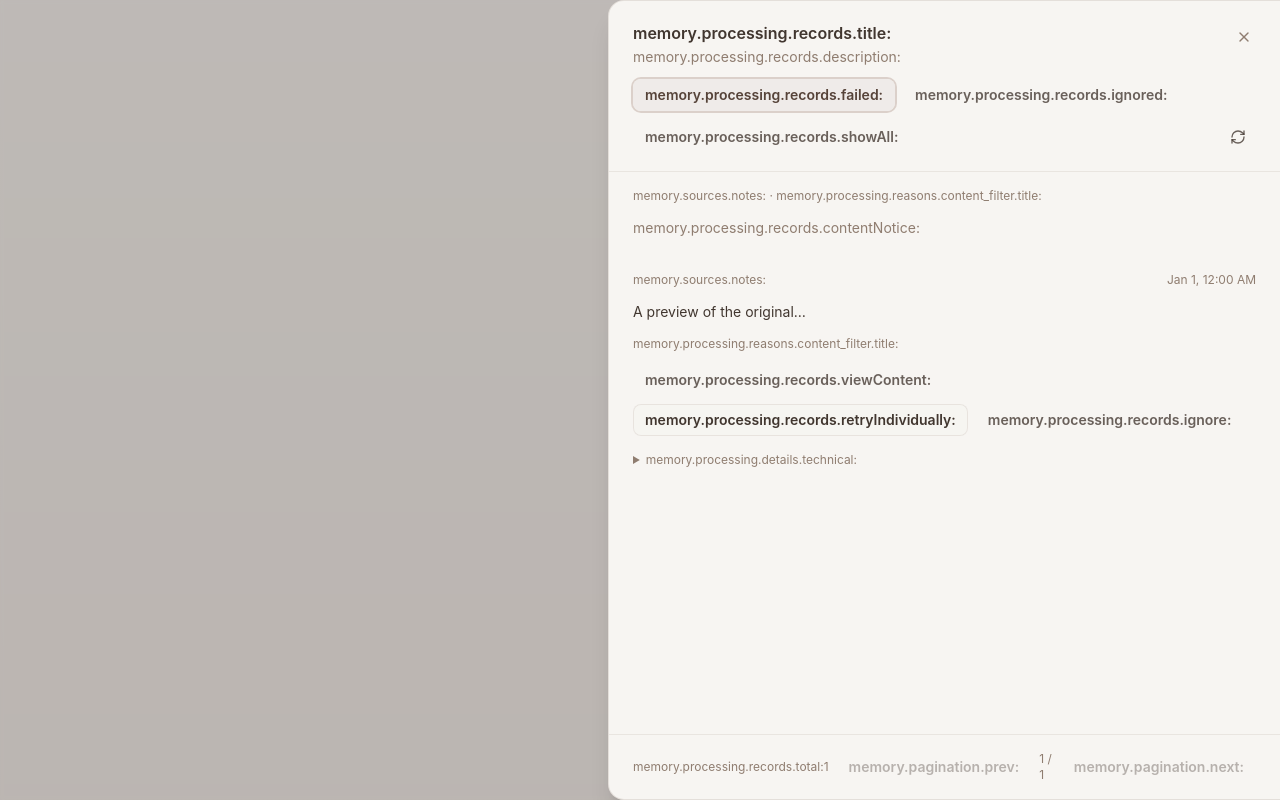
Scenario: MemoryFailureRecords › shows affected originals and offers explicit individual recovery without auto-retrying
The image size is (1280, 800).
Check: the text "A preview of the original…" is shown, box [633,303,806,320]
Check: the text "memory.processing.records.contentNotice:" is shown, box [633,219,920,236]
Click the button "memory.processing.records.viewContent:" at (788, 380), box [633,364,943,396]
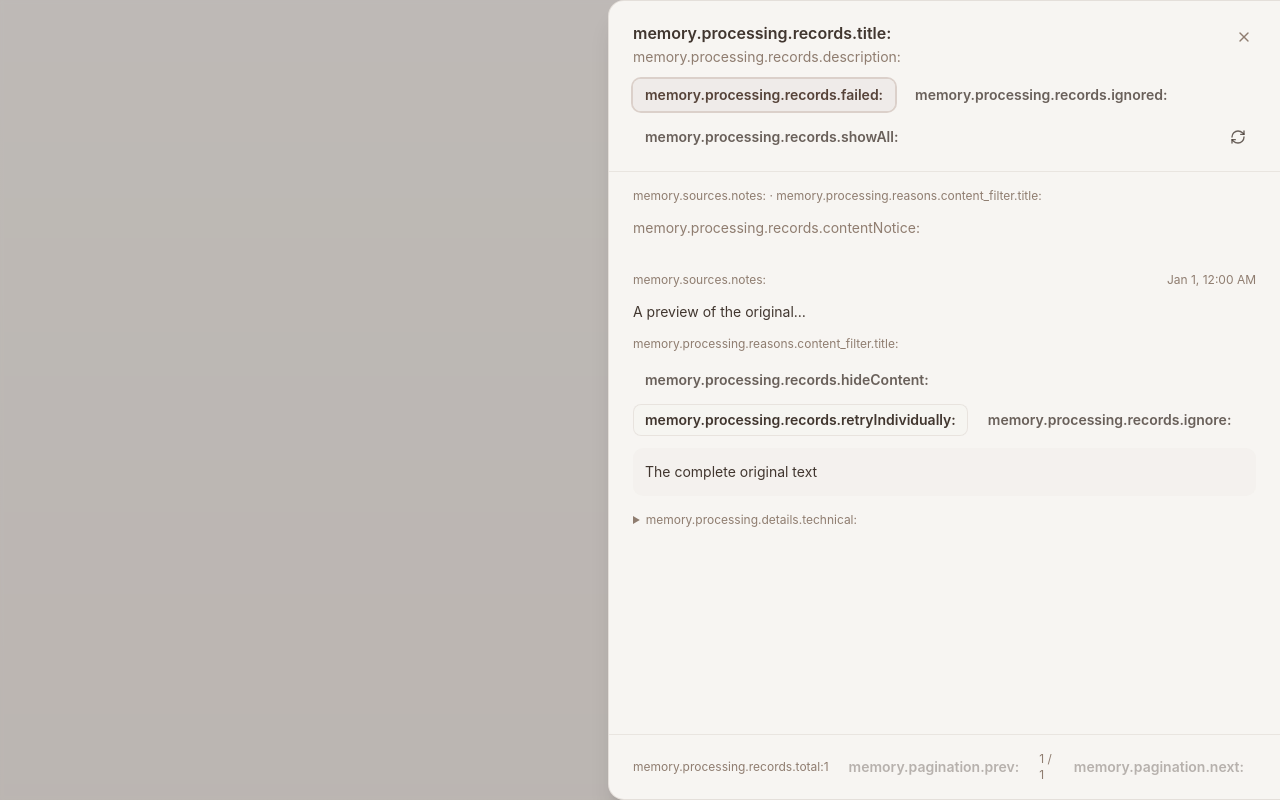
Check: the text "The complete original text" is shown, box [645,463,817,480]
